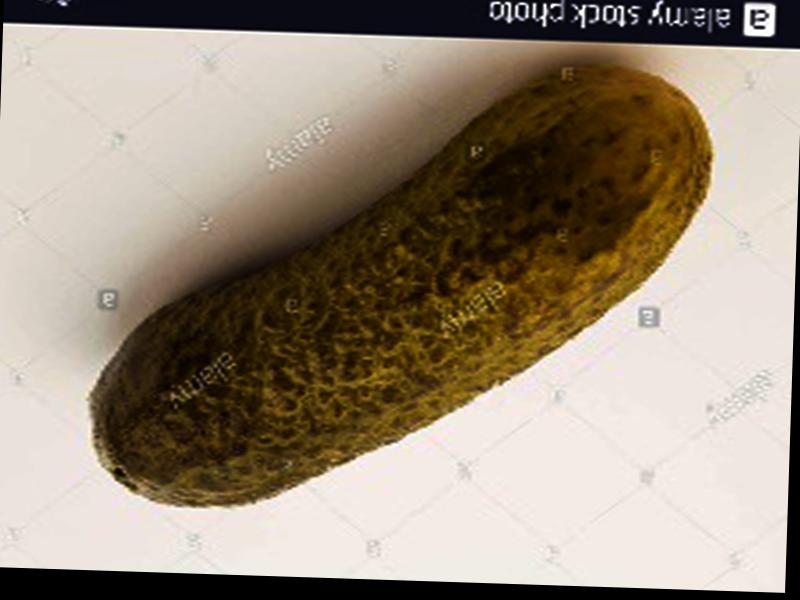Cucumber: (89, 51, 716, 520)
